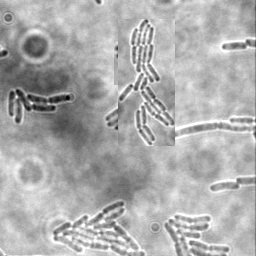Dividing: (176, 123, 255, 142), (221, 41, 248, 52)
Microcolony: (118, 19, 175, 146), (51, 200, 147, 255), (162, 212, 231, 255), (114, 40, 169, 85), (8, 89, 72, 126), (208, 182, 240, 193)
